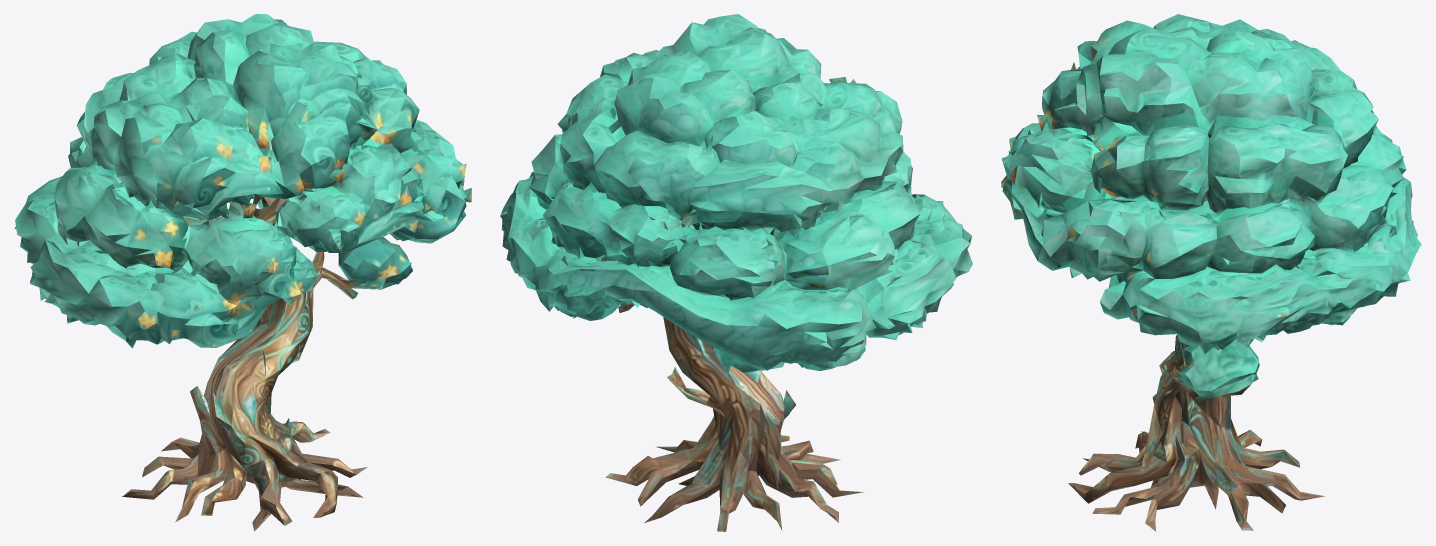
Rendered from starlight-tree.glb.
3 renders of one model, left to right at view 1: azimuth 30°, elevation 25°; view 2: azimuth 150°, elevation 25°; view 3: azimuth 270°, elevation 25°, orthographic. The views are drawn at different scales.
Visible parts, largest first — view 1: geometry_0; view 2: geometry_0; view 3: geometry_0.
Boxes of the visible parts, x1,y1,x2,y2 form: geometry_0: (14,14,471,531); geometry_0: (500,14,972,531); geometry_0: (1001,14,1421,531).
Bounding box in the file's own units: 1.18 × 1.2 × 1.
1 material, 1 textured.
